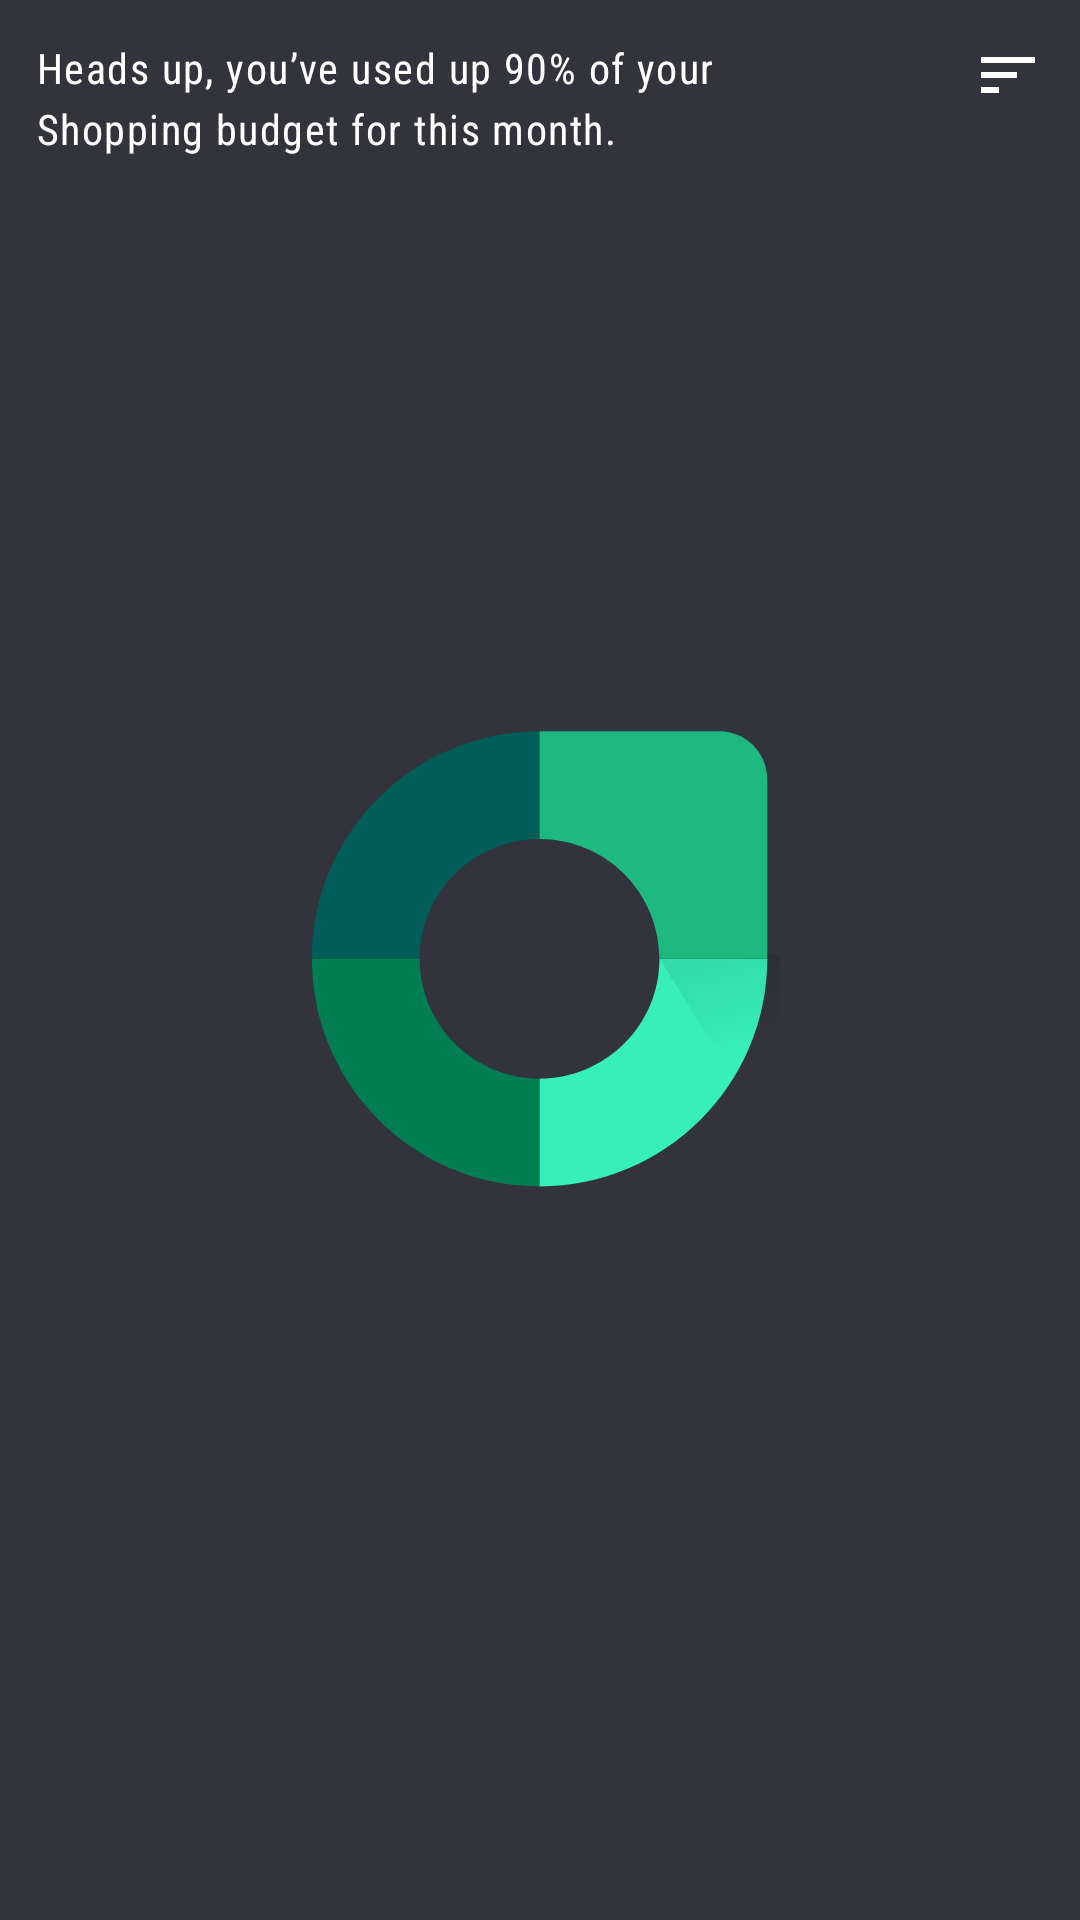

Where to tap for icons on this 1080 × 1920 app screen, as (x=x, y=y):
sort: (x=1008, y=75)
